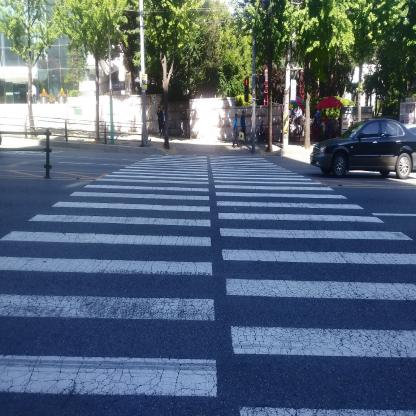Red: (244, 79, 249, 101)
